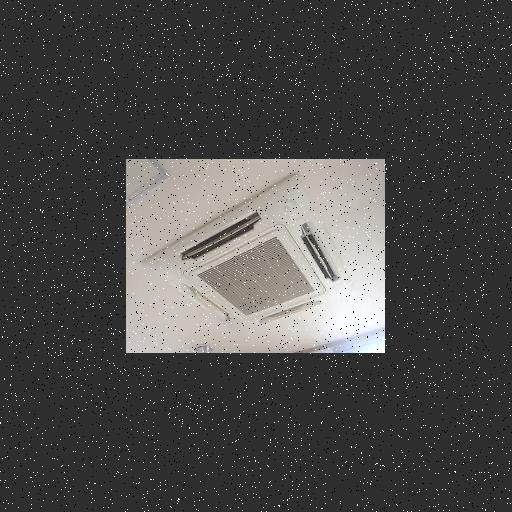4-way-ac: (143, 174, 355, 332)
